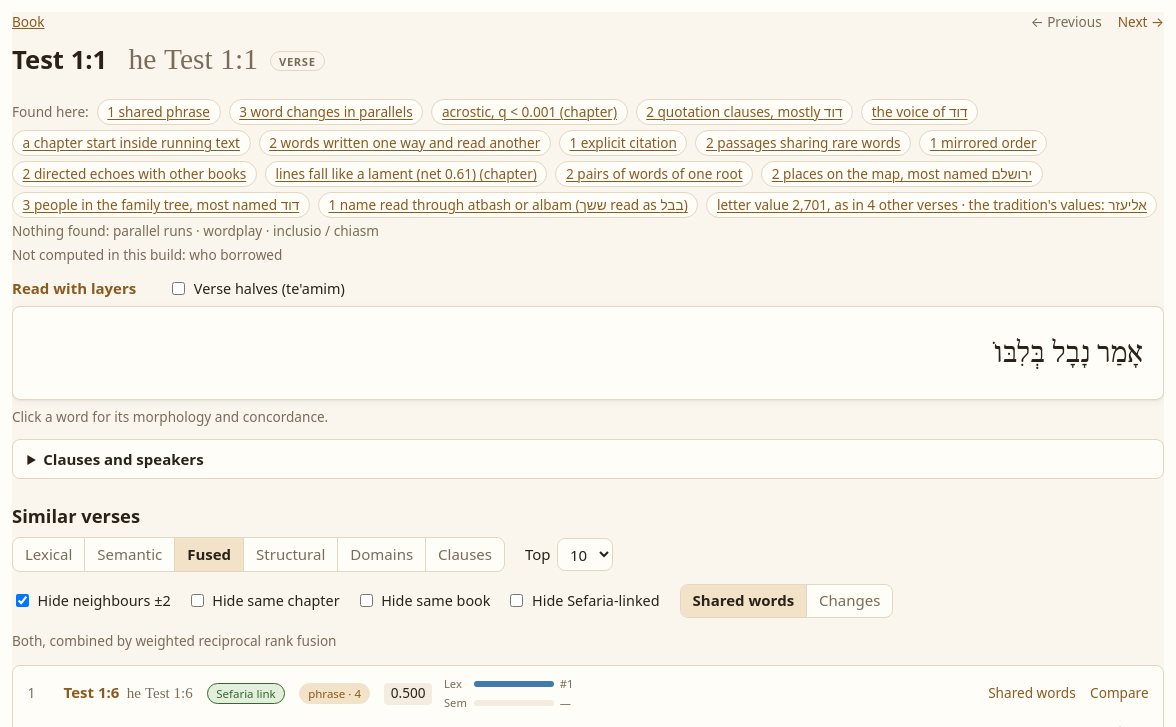
Test case: UnitPage › splits the verse at its accent pause and marks parallel halves
The width and height of the screenshot is (1176, 727).
Expected: the link "Test 1:6he Test 1:6" is shown, [64, 681, 193, 706]
Click the checkbox labelled "Verse halves (te'amim)": (179, 288) [172, 282, 185, 295]
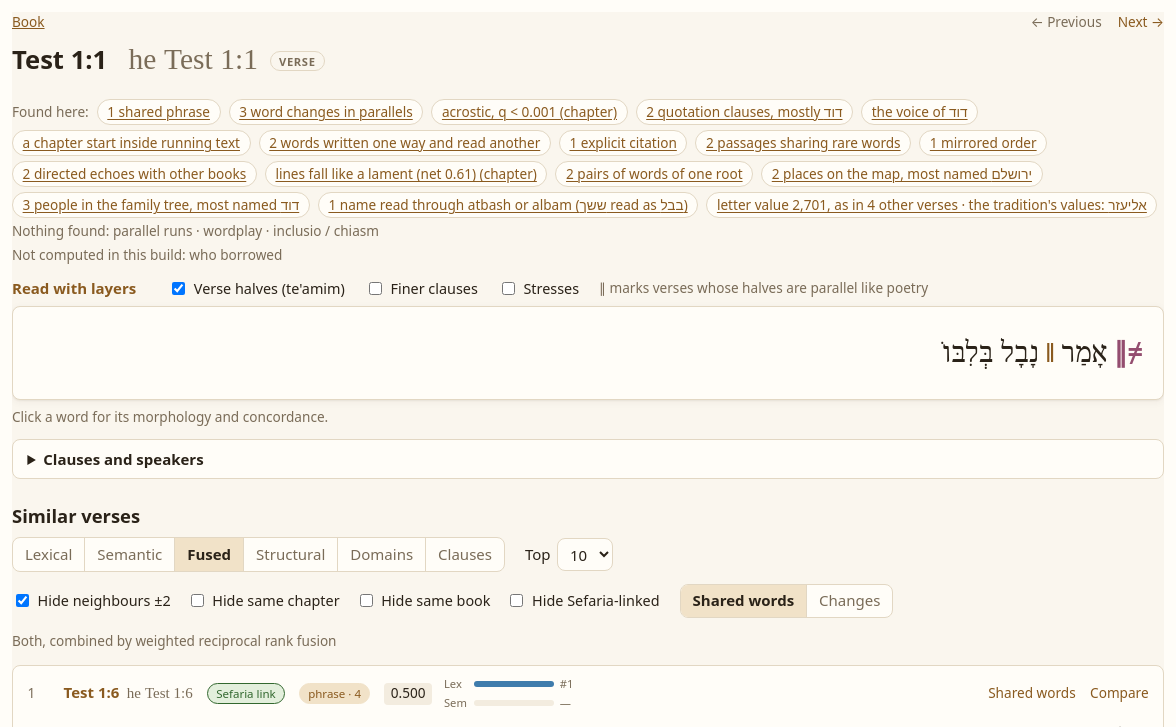
Result: the number of elements with class "colon-break" is 1 at [1039, 338, 1062, 370]
Result: the text "∥≠" is shown at [1114, 333, 1143, 370]
Click the checkbox labelled "Finer clauses": (375, 288) [369, 282, 382, 295]
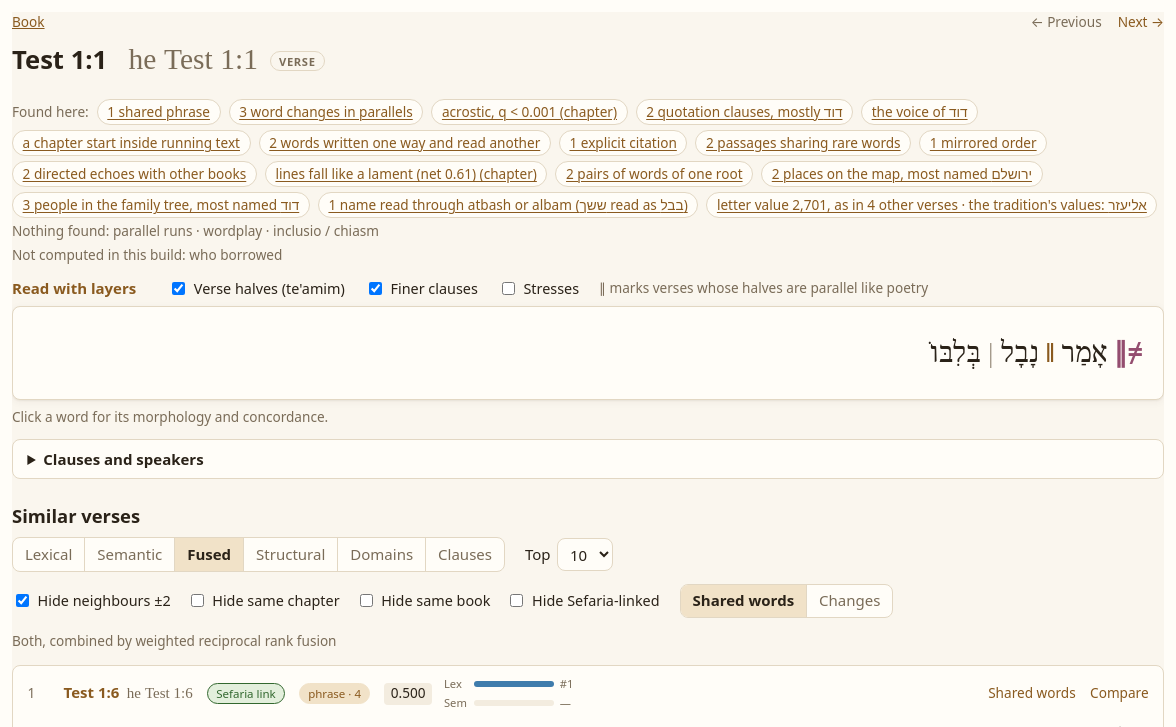
Result: the number of elements with class "clause-break" is 1 at [981, 338, 1000, 370]
